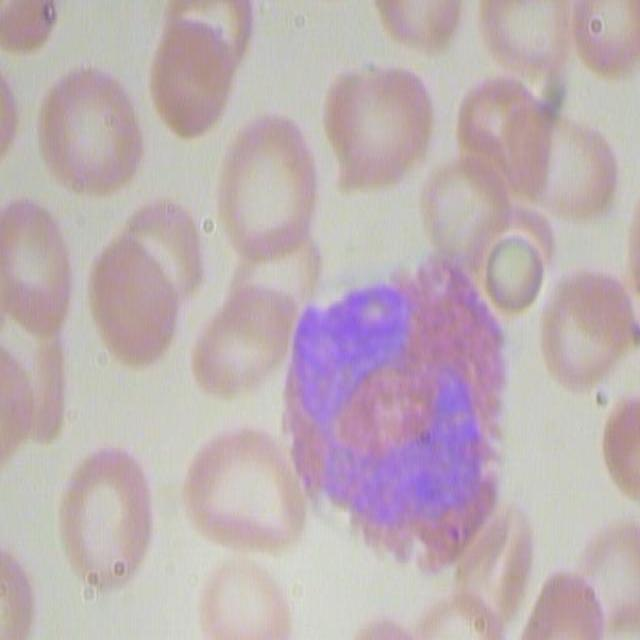RBC: (175, 422, 314, 560), (212, 113, 322, 272), (442, 195, 558, 344), (318, 63, 432, 197), (54, 442, 159, 587), (496, 117, 620, 237), (36, 68, 142, 204), (531, 273, 630, 395), (143, 14, 240, 137), (190, 287, 286, 403), (94, 234, 175, 365), (1, 283, 66, 444), (0, 197, 78, 326), (452, 519, 542, 624), (198, 541, 294, 638), (579, 510, 640, 637), (129, 200, 203, 298), (523, 570, 614, 640), (563, 0, 640, 77), (371, 0, 469, 51), (600, 378, 640, 498), (0, 338, 32, 466)
WBC: (292, 279, 500, 547)
